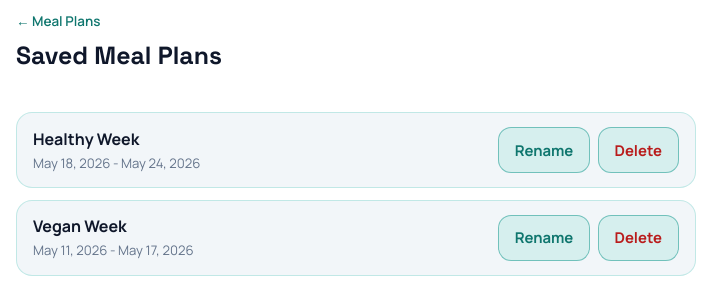
Test case: SavedMealPlansPage › delete › shows confirmation buttons after clicking Delete
Expected: the text "Healthy Week" is shown, [33,128,139,150]
Click the button "Delete" in the row of "Healthy Week": click(638, 150) [598,127,679,173]
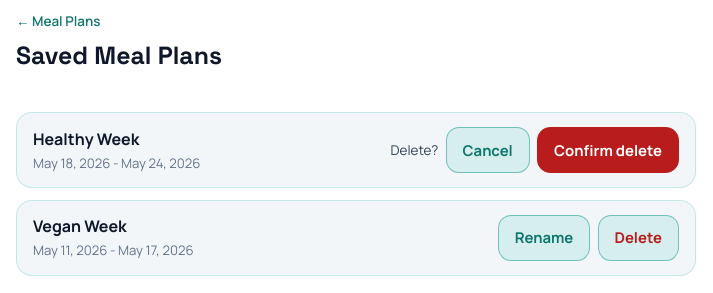
Expected: the button "Confirm delete" is shown, [537,127,679,173]
Expected: the button "Cancel" is shown, [446,127,530,173]
